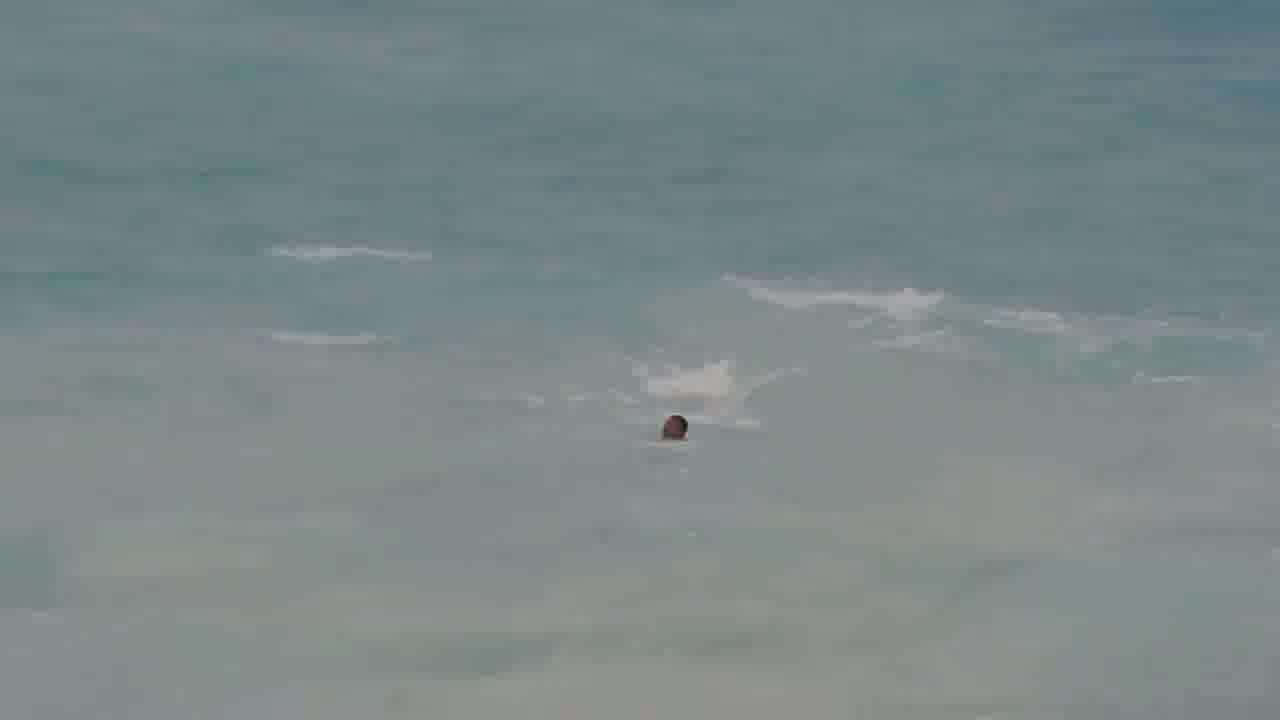human: (643, 410, 698, 450)
